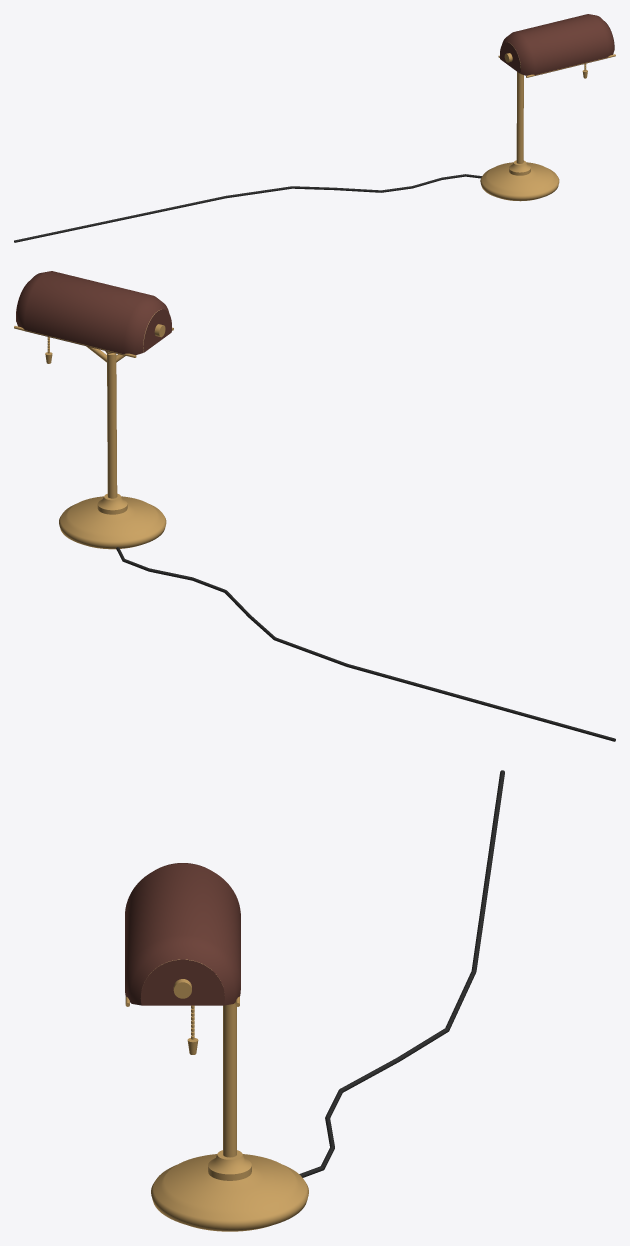
The model's file is Continental.glb.
3 renders of one model, top to bottom at view 1: azimuth 30°, elevation 25°; view 2: azimuth 150°, elevation 25°; view 3: azimuth 270°, elevation 25°, orthographic. The views are drawn at different scales.
Parts seen in each view (by area): view 1: Enamel gallery, Weighted base, Power lead, Post, Shade end; view 2: Enamel gallery, Weighted base, Post, Power lead, Shade end; view 3: Enamel gallery, Weighted base, Shade end, Post, Power lead, Turned stem collar.
Part boxes in pixels (bbox=[...]): Enamel gallery: bbox=[502, 14, 614, 75]; Weighted base: bbox=[480, 162, 559, 201]; Power lead: bbox=[14, 196, 226, 242]; Post: bbox=[516, 72, 523, 163]; Shade end: bbox=[500, 42, 520, 73]; Enamel gallery: bbox=[16, 271, 169, 355]; Weighted base: bbox=[59, 496, 166, 549]; Post: bbox=[107, 353, 117, 498]; Power lead: bbox=[346, 663, 615, 741]; Shade end: bbox=[143, 309, 171, 352]; Enamel gallery: bbox=[125, 863, 240, 1005]; Weighted base: bbox=[151, 1154, 308, 1231]; Shade end: bbox=[141, 959, 224, 1005]; Post: bbox=[223, 1002, 236, 1157]; Power lead: bbox=[471, 770, 504, 971]; Turned stem collar: bbox=[208, 1150, 251, 1180].
Size of the model in its own units: 7.04 by 2.15 by 2.26.
